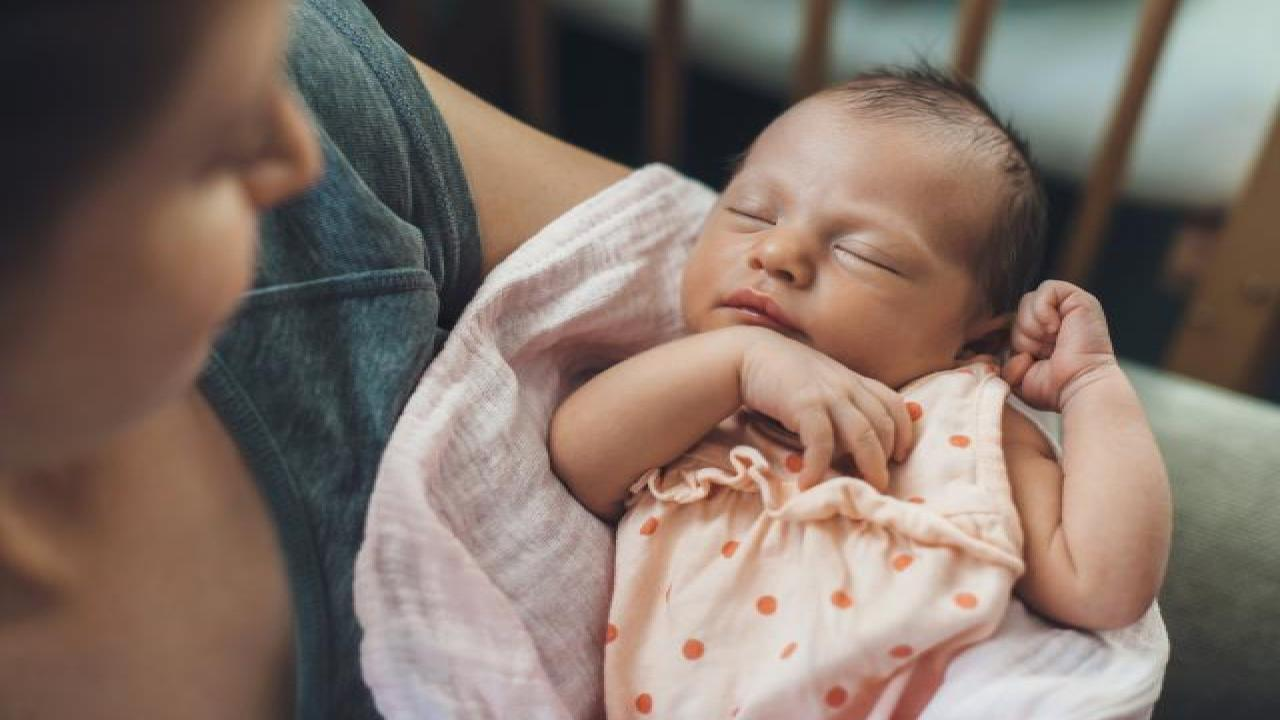hand: (742, 330, 927, 494), (1000, 277, 1118, 408)
